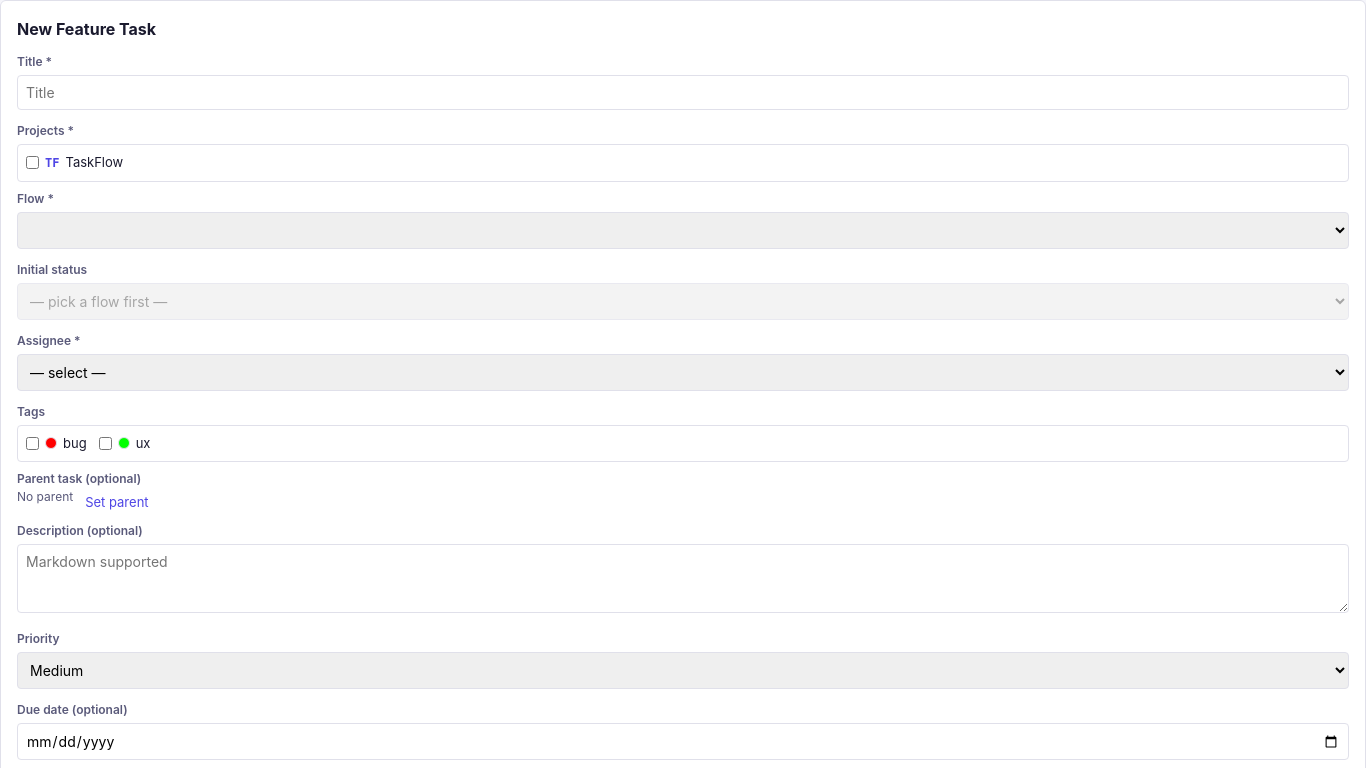
TaskCreateForm — initial status selection › renders a status select populated with the chosen flow's statuses, defaulting to the first by sortOrder
What coordinates should you click on to do the following:
click the checkbox labelled "TF TaskFlow"
I would click on:
 (32, 163)
Its box is [26, 156, 39, 169].
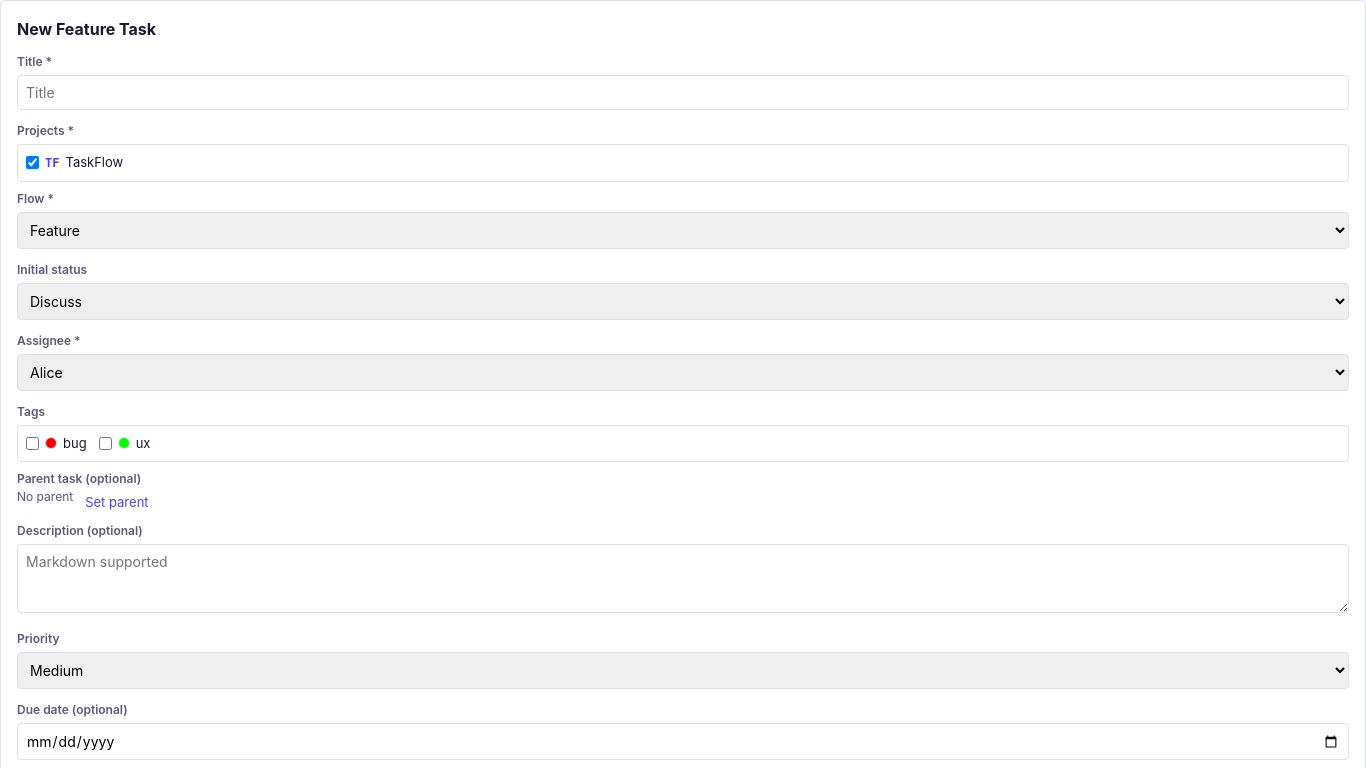
Now the dropdown with test id "task-create-status" shows "Discuss", box [17, 282, 1349, 320]
